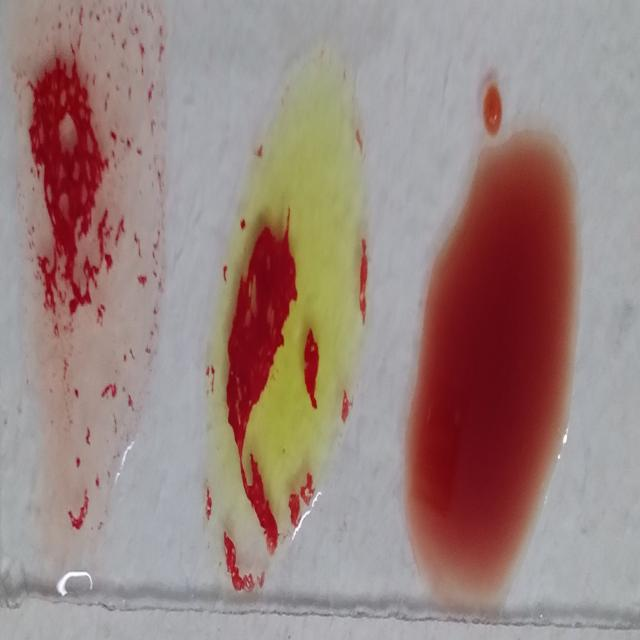B: (205, 45, 375, 592)
D: (18, 0, 172, 580)
